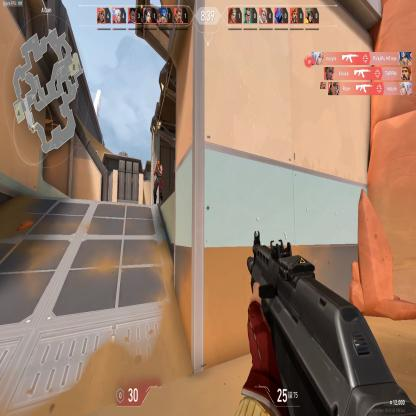enemy: (152, 157, 164, 205)
